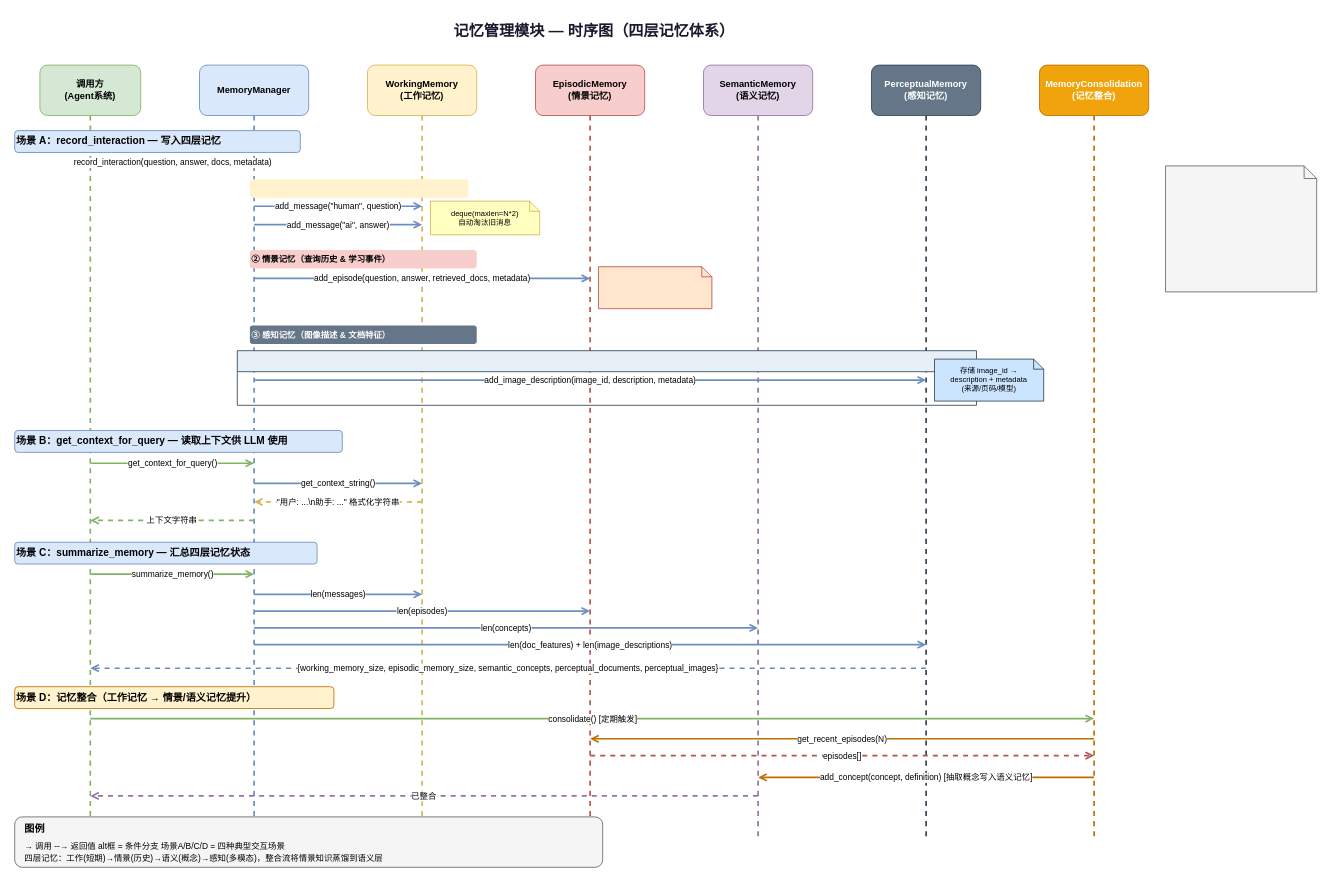
The diagram is 1331 pixels wide and 882 high, and some of its shapes have lost their labels. The shapes that lost their labels are listed below. From the top down, each one's centre as x and y in pixels, then its label:
the point at 358,188: ① 工作记忆（最近N轮对话上下文）
the point at 1241,228: 记忆层次架构 工作记忆（实时，最近N轮） ↓ 持久化 情景记忆（历史问答事件） ↓ 抽象提炼 语义记忆（概念知识） 感知记忆（多模态特征）
the point at 655,287: 记录 timestamp, question, answer, retrieved_docs
the point at 606,377: alt [ metadata 含 image_descriptions ]
